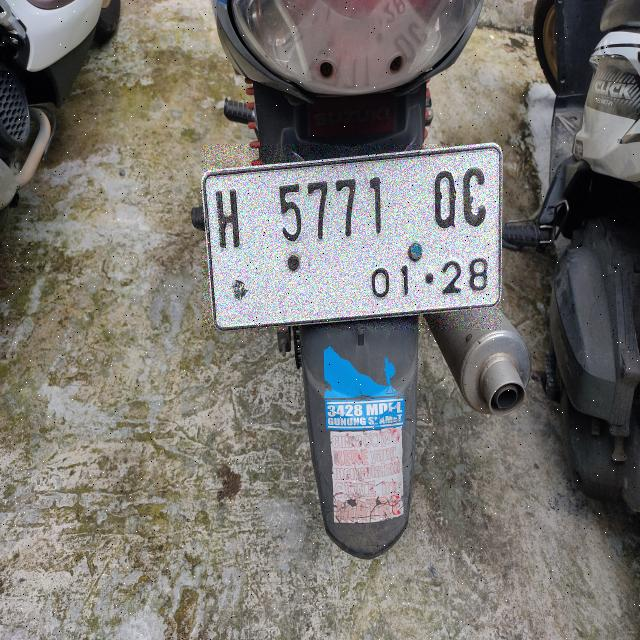plate: (203, 145, 501, 329)
